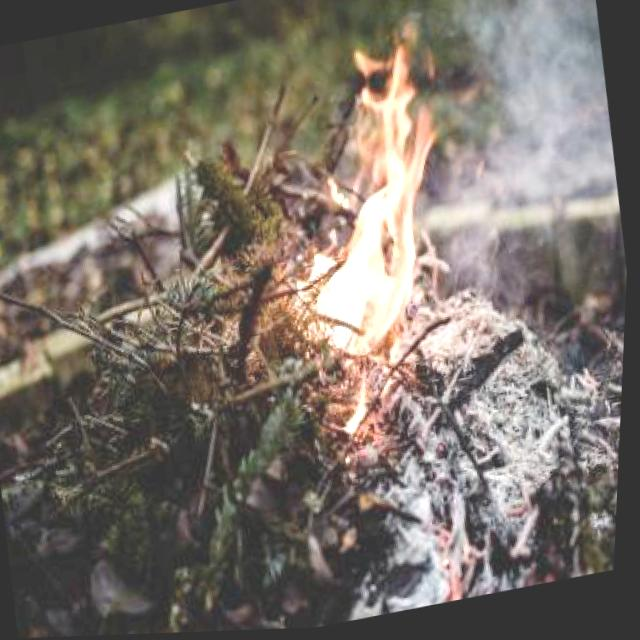Fire: (248, 5, 498, 434)
